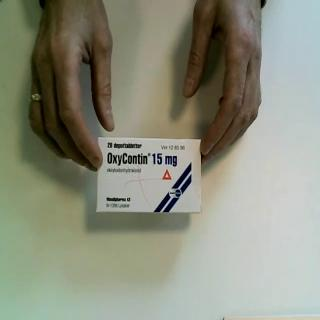oxycontin15mg: (96, 136, 204, 217)
